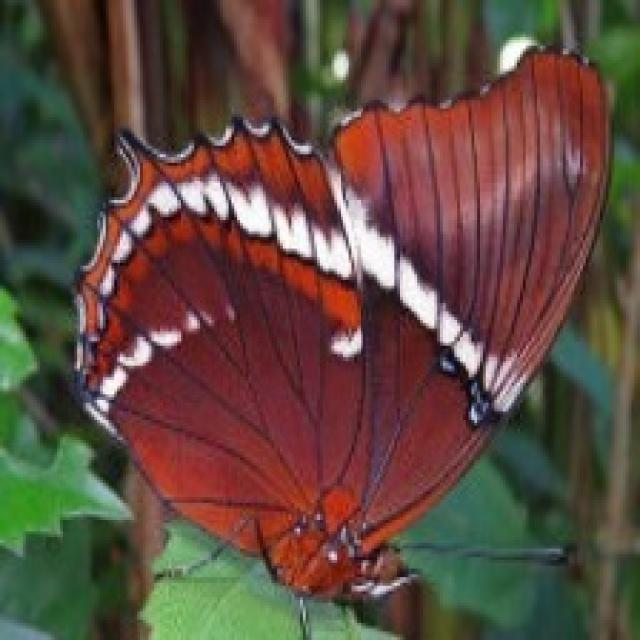butterfly: (69, 40, 614, 637)
